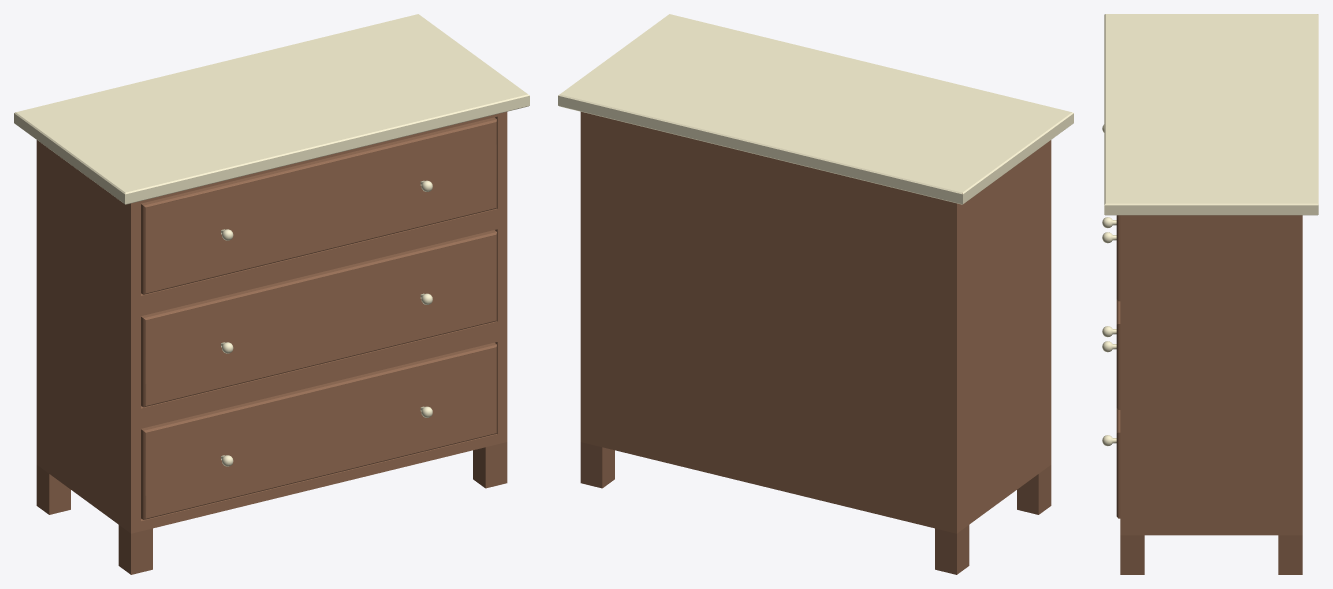
File: Dresser.glb
3 views of the same model, side by side, from view 1: azimuth 30°, elevation 25°; view 2: azimuth 150°, elevation 25°; view 3: azimuth 270°, elevation 25° (orthographic). The views are drawn at different scales.
Parts seen in each view (by area): view 1: Dresser; view 2: Dresser; view 3: Dresser.
Boxes of the visible parts, x1,y1,x2,y2 form: Dresser: [14, 14, 529, 574]; Dresser: [558, 14, 1073, 574]; Dresser: [1102, 14, 1318, 574].
Size of the model in its own units: 1.24 by 1.14 by 0.5939.
Materials: 1 (1 with a texture image).
